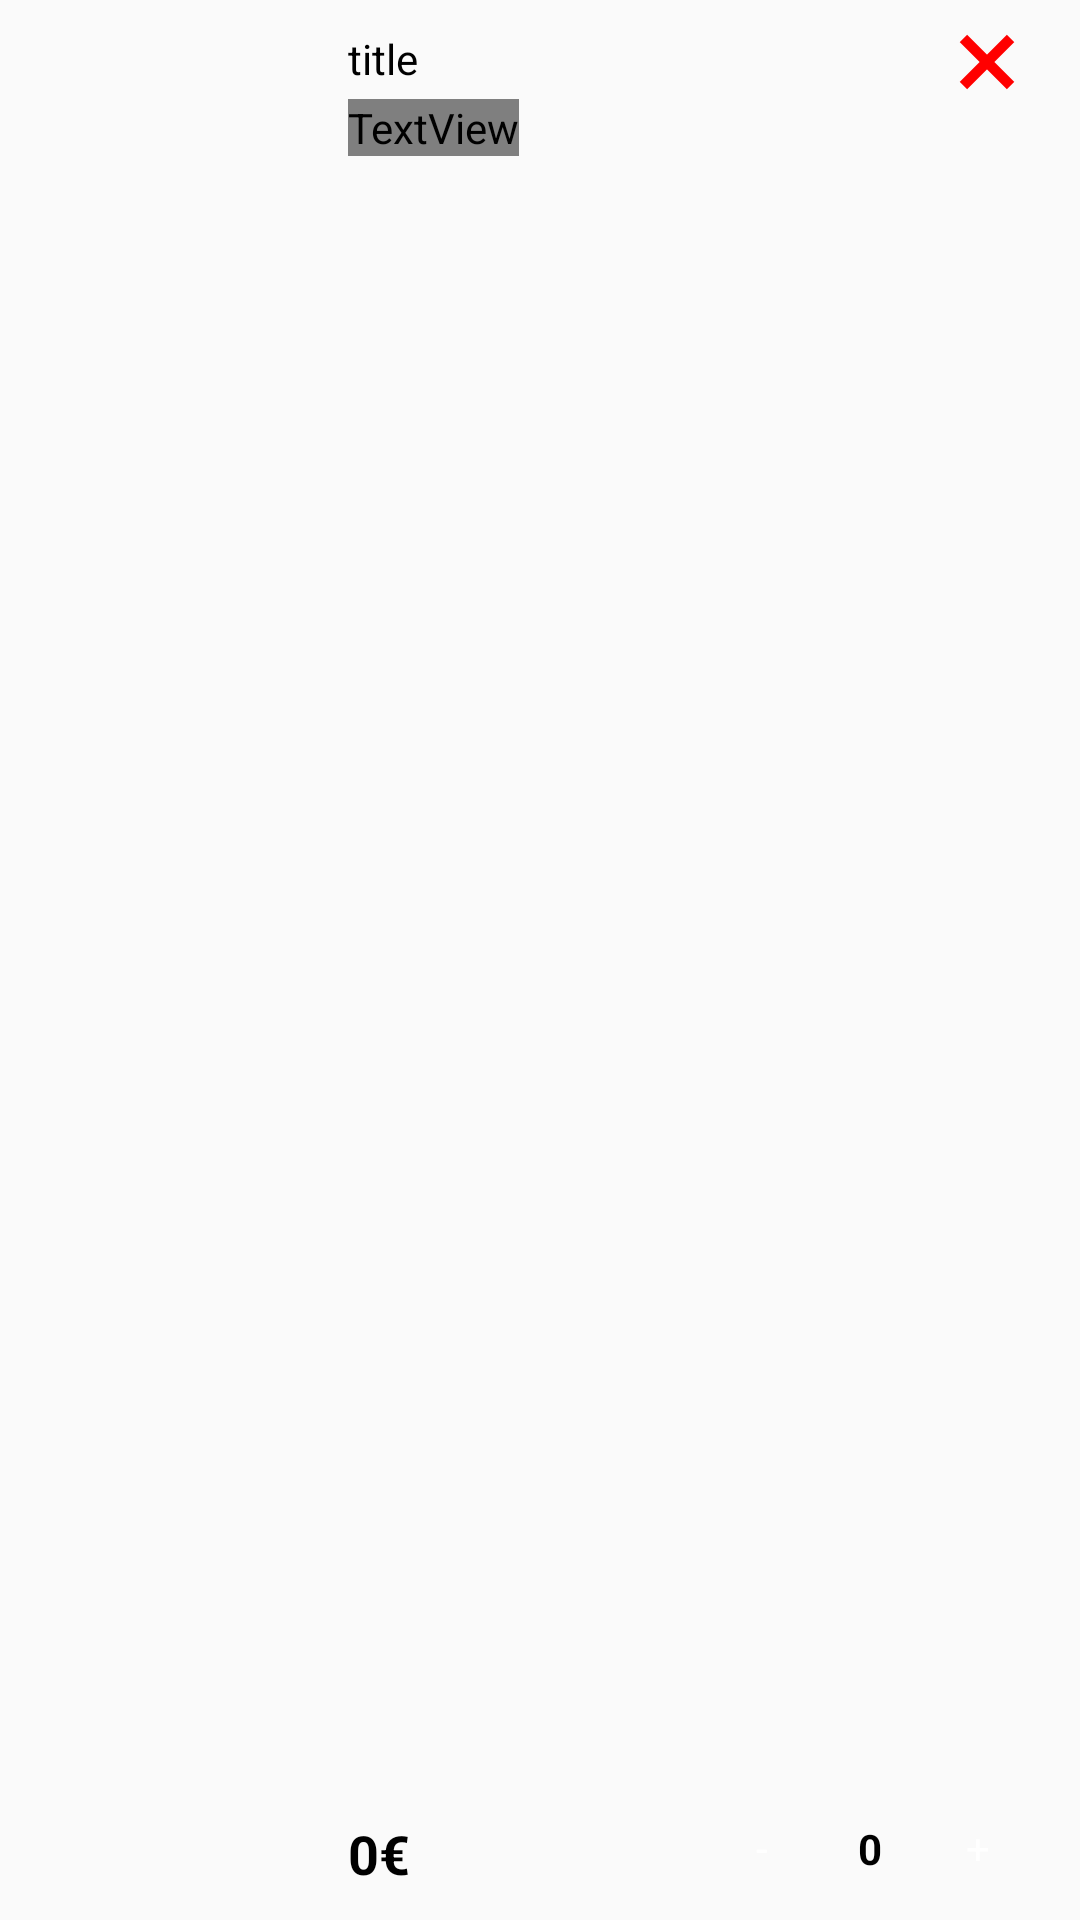

Locate icon controls on the screen. Image size 1080px×1920px, boxes as (x1, y1, x2, y2).
remove: (960, 35, 1014, 89)
